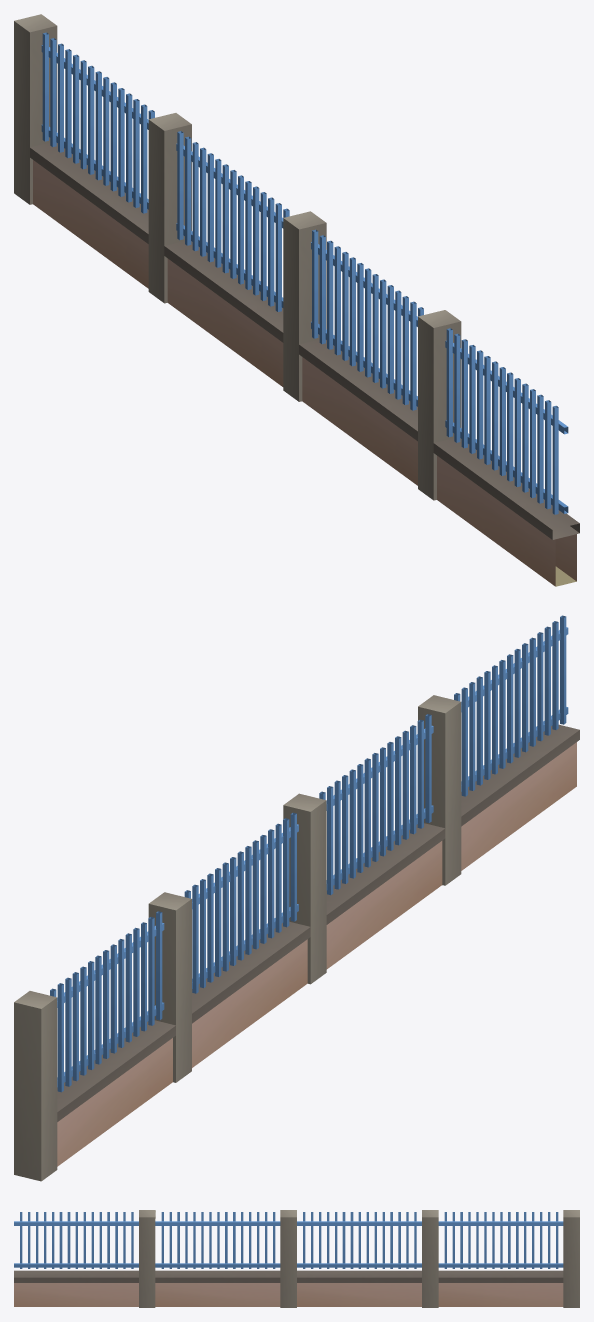
File: SM_Fence.fbx
3 renders of one model, top to bottom at view 1: azimuth 30°, elevation 25°; view 2: azimuth 150°, elevation 25°; view 3: azimuth 270°, elevation 25°, orthographic. The views are drawn at different scales.
Parts seen in each view (by area): view 1: Cube.002; view 2: Cube.002; view 3: Cube.002.
Boxes of the visible parts, x1,y1,x2,y2 form: Cube.002: (14, 14, 579, 586); Cube.002: (14, 615, 579, 1181); Cube.002: (14, 1210, 579, 1307).
Size of the model in its own units: 17.95 by 108 by 610.
